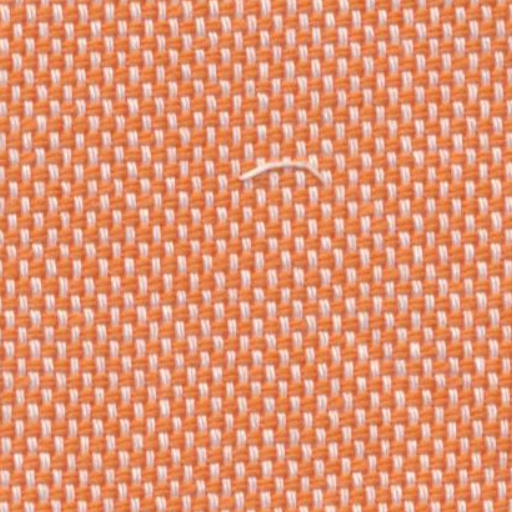DuanSha: (214, 132, 336, 211)
